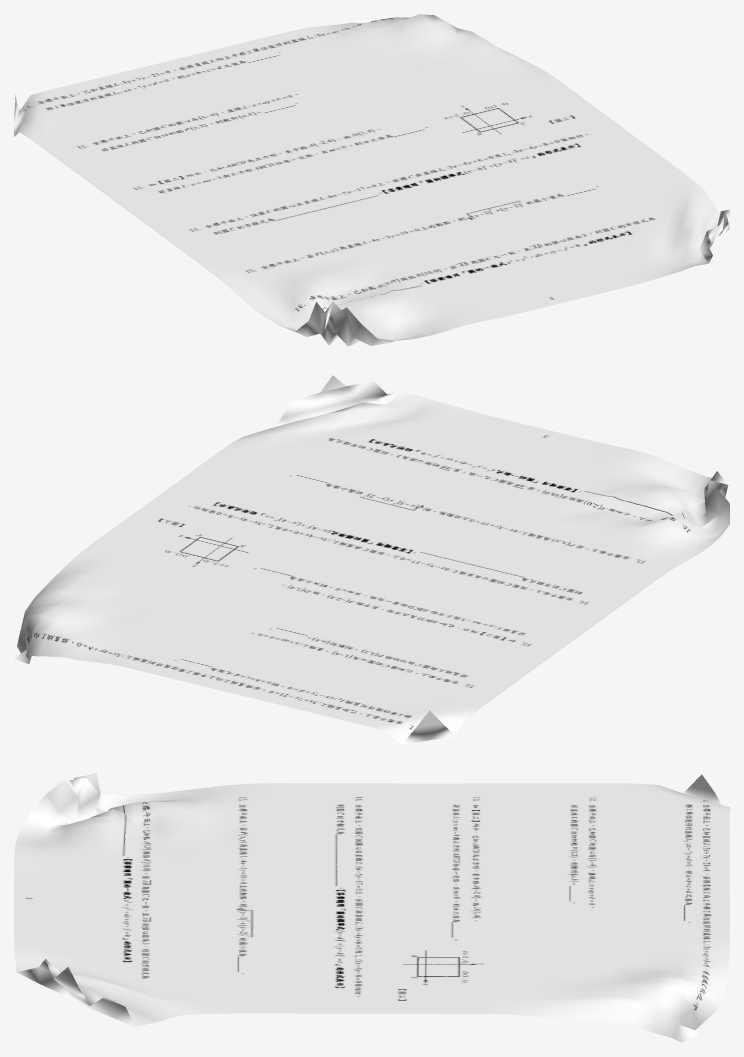
File: 考試卷2.fbx
The picture shows the model from 3 angles, top to bottom: view 1: azimuth 30°, elevation 25°; view 2: azimuth 150°, elevation 25°; view 3: azimuth 270°, elevation 25°; orthographic projection. The views are drawn at different scales.
Parts seen in each view (by area): view 1: Plane001; view 2: Plane001; view 3: Plane001.
Boxes of the visible parts, x1,y1,x2,y2 form: Plane001: (14,14,729,346); Plane001: (14,375,729,744); Plane001: (14,773,729,1042).
Size of the model in its own units: 30.06 by 4.41 by 39.44.
1 material, 1 textured.
